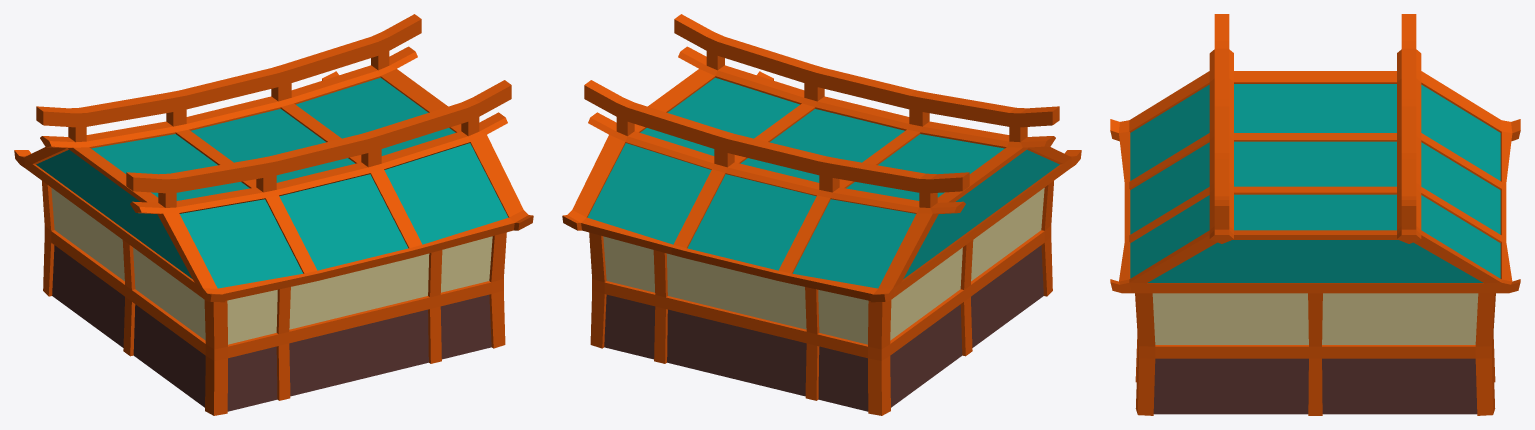
The model's file is GEO_hut_medium_3.fbx.
The picture shows the model from 3 angles, left to right: view 1: azimuth 30°, elevation 25°; view 2: azimuth 150°, elevation 25°; view 3: azimuth 270°, elevation 25°; orthographic projection. The views are drawn at different scales.
Visible parts, largest first — view 1: GEO_hut_medium_3; view 2: GEO_hut_medium_3; view 3: GEO_hut_medium_3.
Part boxes in pixels (<box>): GEO_hut_medium_3: <box>14,14,533,415</box>; GEO_hut_medium_3: <box>562,14,1081,415</box>; GEO_hut_medium_3: <box>1110,14,1520,415</box>.
Size of the model in its own units: 873 by 490 by 789.
